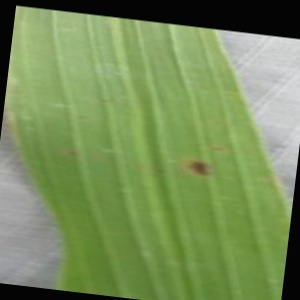Bacterial_Leaf_Blight: (182, 157, 214, 179), (64, 147, 82, 158), (97, 95, 115, 106), (209, 116, 223, 129), (211, 145, 228, 155), (151, 166, 166, 176), (74, 112, 87, 122)
